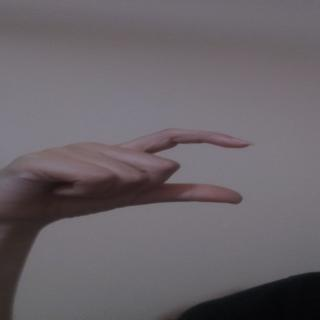DELL: (6, 126, 270, 222)
